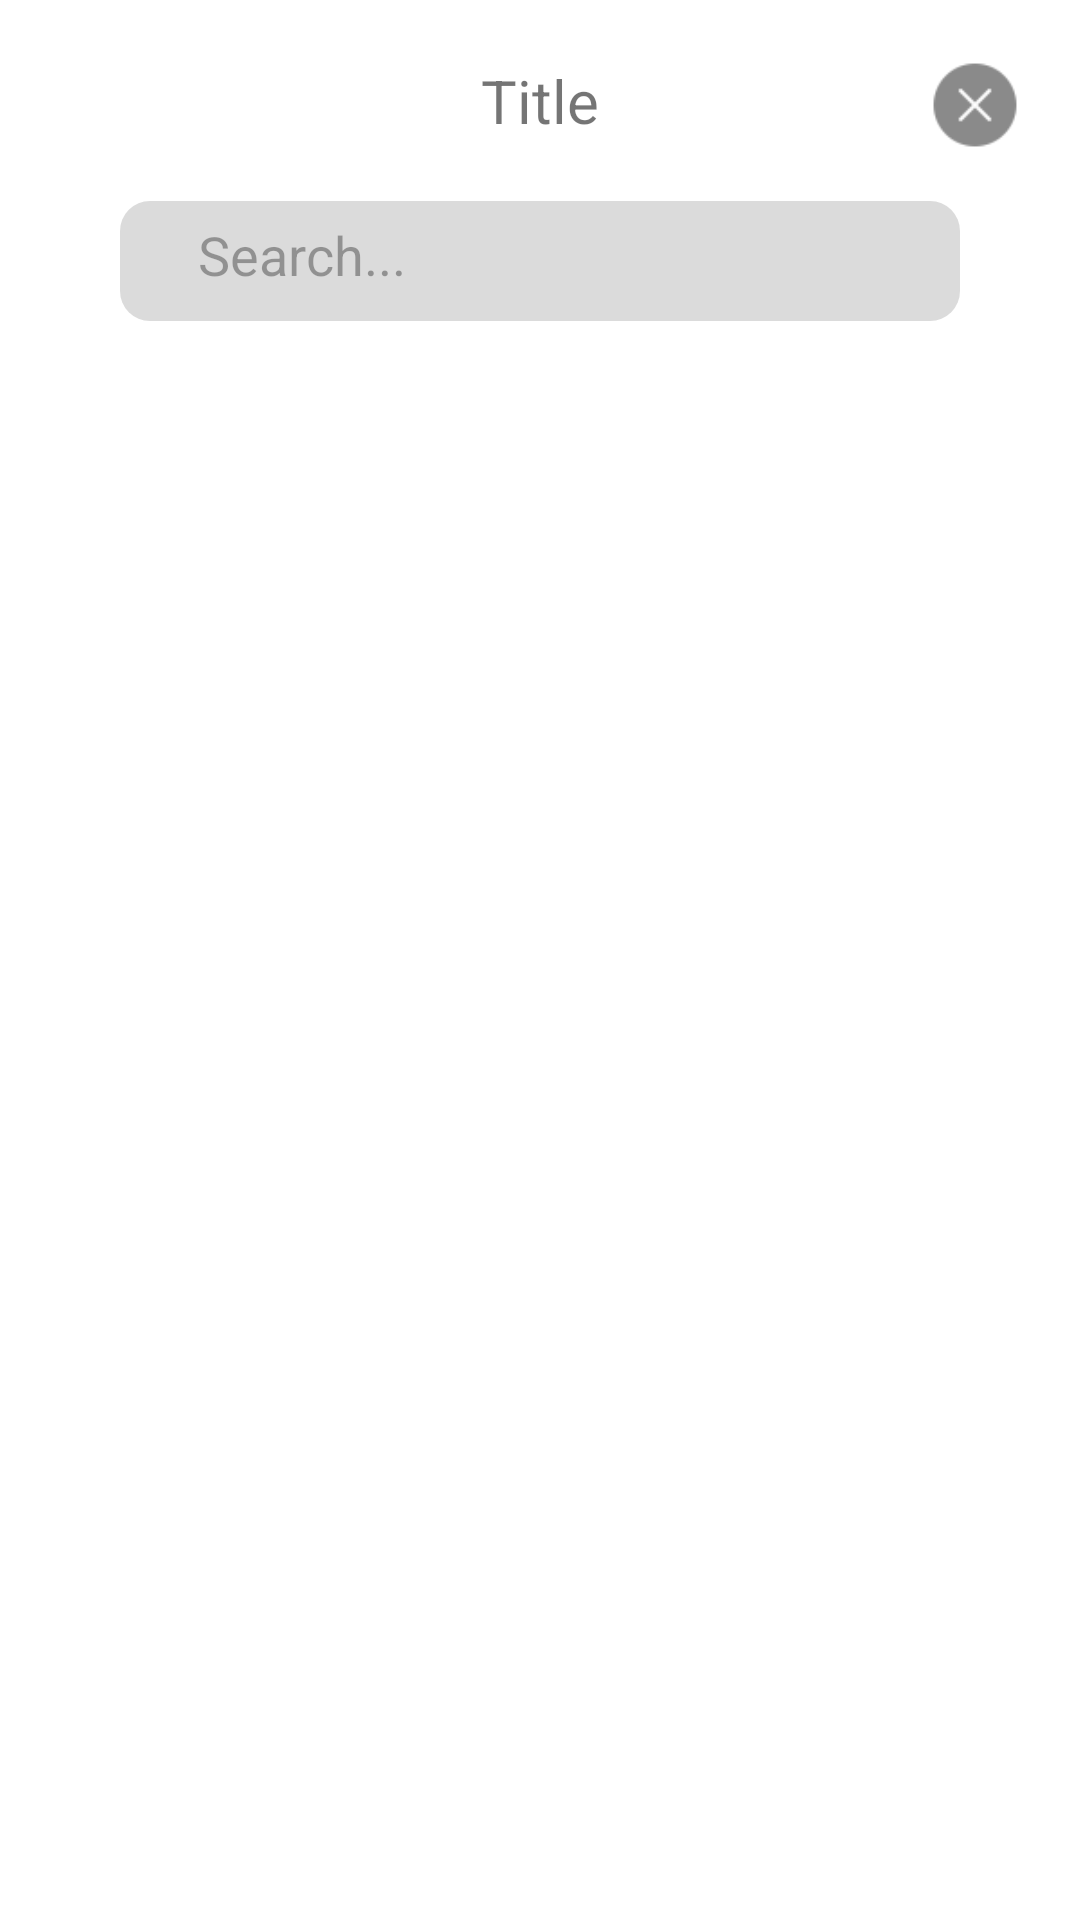

Locate icon controls on the screen. Image size 1080 x 1920, boxes as BBox(x1, y1, x2, y2).
close: BBox(933, 63, 1017, 147)
